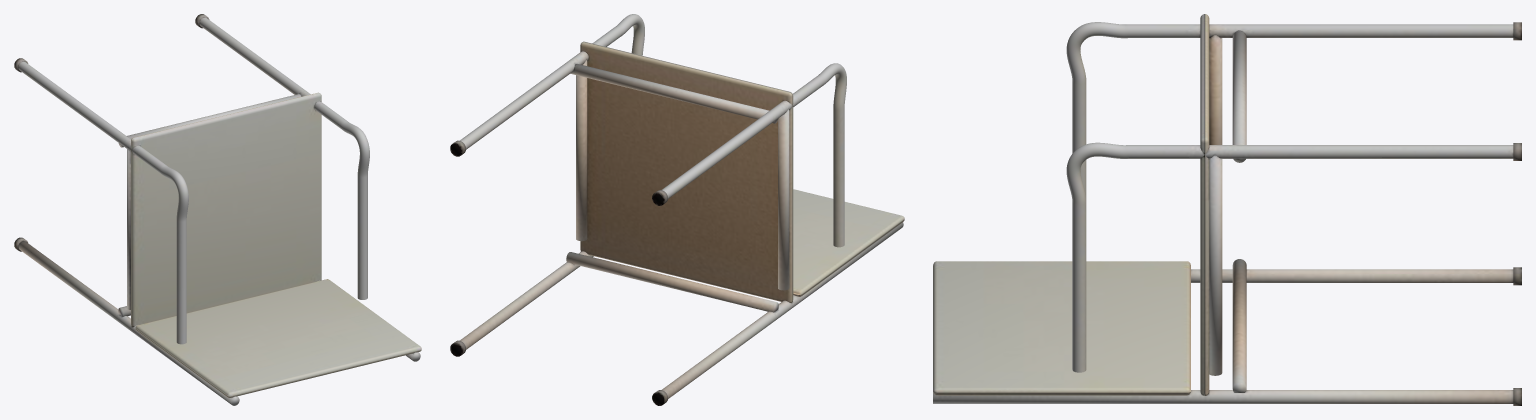
The model's file is C2_chair_final_5.obj.
3 renders of one model, left to right at view 1: azimuth 30°, elevation 25°; view 2: azimuth 150°, elevation 25°; view 3: azimuth 270°, elevation 25°, orthographic. The views are drawn at different scales.
Parts seen in each view (by area): view 1: C2_chair_final_5.001; view 2: C2_chair_final_5.001; view 3: C2_chair_final_5.001.
Boxes of the visible parts, x1=… form: C2_chair_final_5.001: x1=14, y1=14, x2=421, y2=405; C2_chair_final_5.001: x1=450, y1=14, x2=904, y2=405; C2_chair_final_5.001: x1=933, y1=14, x2=1521, y2=405.
Size of the model in its own units: 0.44 by 0.426 by 0.845.
1 material, 1 textured.
